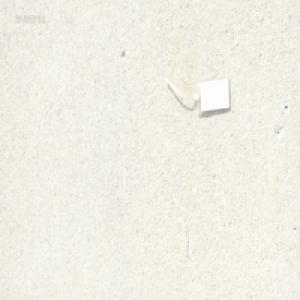LuggageTag: (160, 74, 232, 117)
